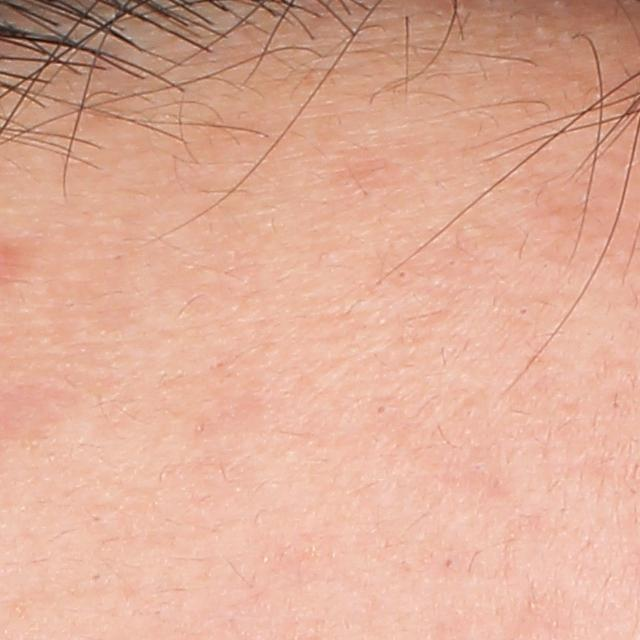comedo: (374, 399, 388, 419)
